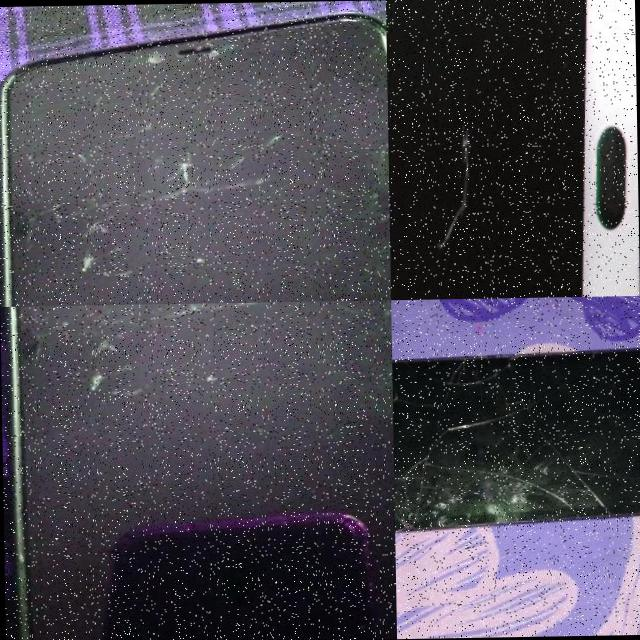scratch: (433, 120, 478, 257)
screen crack: (0, 61, 390, 290), (391, 325, 640, 534), (1, 300, 342, 404)
